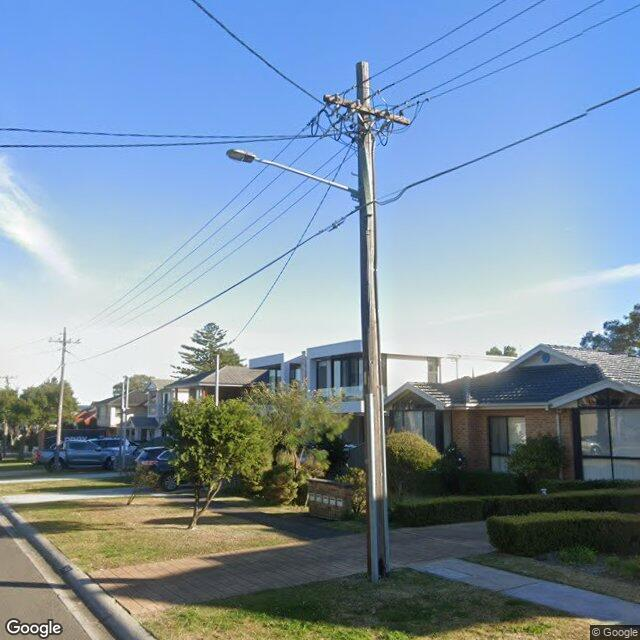crossarm: (322, 94, 410, 125), (48, 340, 80, 344), (0, 376, 16, 378)
steel-pole: (125, 377, 129, 471), (120, 380, 124, 471), (215, 354, 220, 406)
streetlight: (226, 147, 358, 198)
timber-pole: (355, 59, 390, 582), (56, 327, 67, 444), (4, 376, 8, 448)
